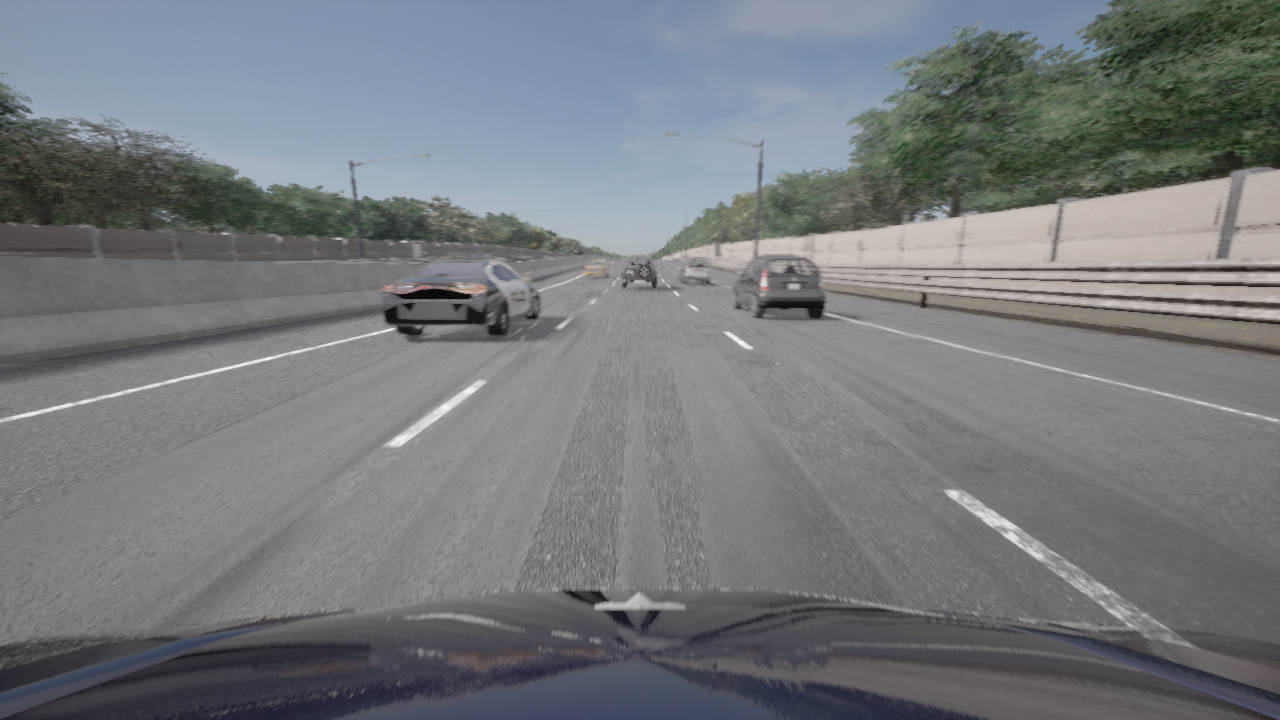cyclist: (0, 588, 1279, 719), (380, 255, 541, 336), (731, 255, 826, 319), (622, 255, 657, 289), (680, 259, 711, 285), (585, 259, 609, 278)
